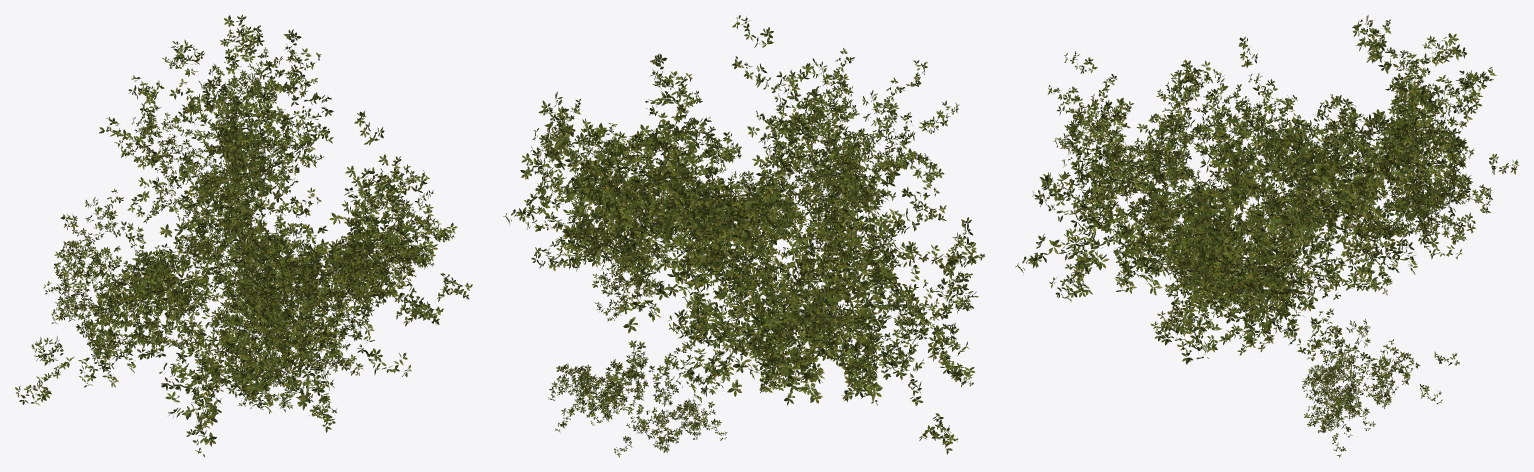
File: island-tree-complete.glb
3 renders of one model, left to right at view 1: azimuth 30°, elevation 25°; view 2: azimuth 150°, elevation 25°; view 3: azimuth 270°, elevation 25°, orthographic. The views are drawn at different scales.
Parts seen in each view (by area): view 1: Complete authored leaf canopy; view 2: Complete authored leaf canopy; view 3: Complete authored leaf canopy.
Boxes of the visible parts, left/top/right/bottom form: Complete authored leaf canopy: left=15, top=14, right=472, bottom=456; Complete authored leaf canopy: left=503, top=15, right=984, bottom=457; Complete authored leaf canopy: left=1015, top=15, right=1519, bottom=457.
Size of what is drawn, in the model's own units: 4.76 by 4.38 by 4.82.
1 material, 1 textured.
